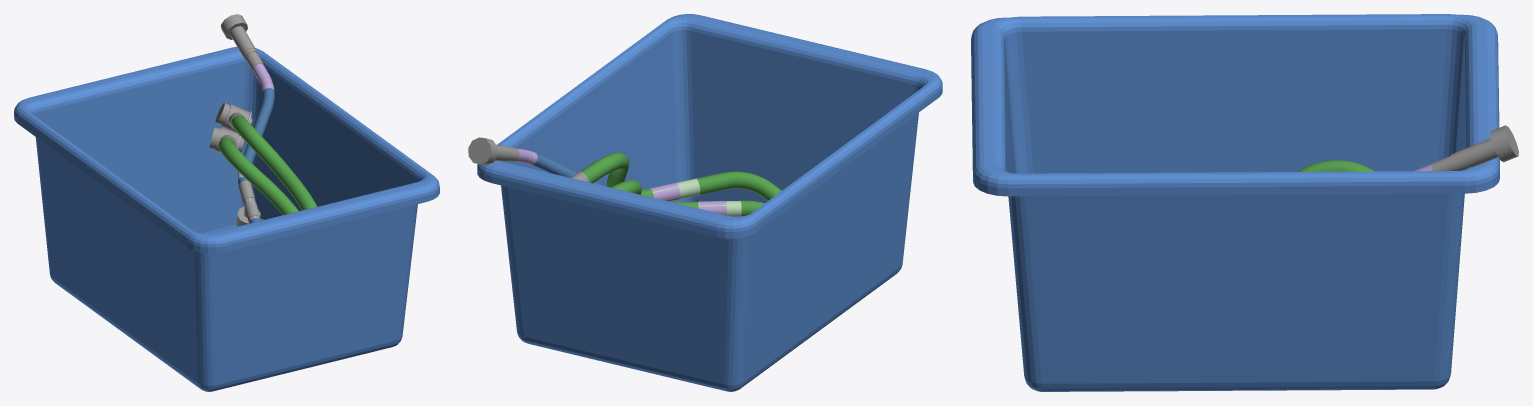
3 views of the same model, side by side, from view 1: azimuth 30°, elevation 25°; view 2: azimuth 150°, elevation 25°; view 3: azimuth 270°, elevation 25° (orthographic). The views are drawn at different scales.
Visible parts, largest first — view 1: bin, tube_1_AB, tube_0_Y, tube_2_Y; view 2: bin, tube_0_Y, tube_1_AB, tube_2_Y; view 3: bin, tube_1_AB, tube_0_Y.
Boxes of the visible parts, left/top/right/bottom form: bin: left=14, top=46, right=439, bottom=391; tube_1_AB: left=221, top=14, right=274, bottom=226; tube_0_Y: left=215, top=102, right=317, bottom=210; tube_2_Y: left=209, top=127, right=298, bottom=214; bin: left=477, top=14, right=942, bottom=391; tube_0_Y: left=570, top=152, right=781, bottom=201; tube_1_AB: left=468, top=137, right=604, bottom=185; tube_2_Y: left=611, top=179, right=764, bottom=216; bin: left=971, top=14, right=1499, bottom=391; tube_1_AB: left=1413, top=125, right=1518, bottom=171; tube_0_Y: left=1297, top=160, right=1375, bottom=171.
Size of the model in its own units: 0.2945 by 0.2288 by 0.4121.
